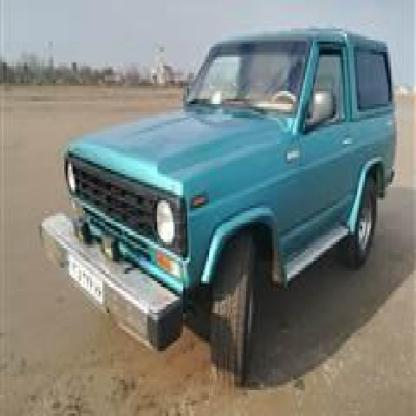Car: (38, 20, 397, 392)
